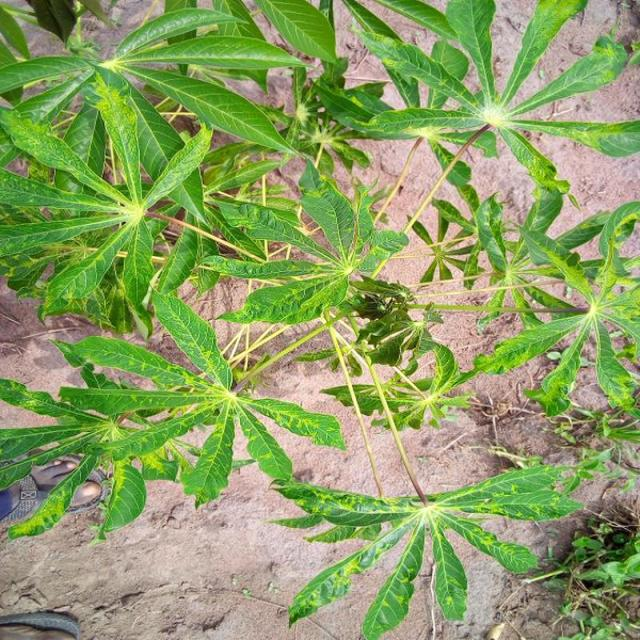Mosaico: (347, 17, 639, 203), (262, 460, 579, 615), (25, 73, 191, 309), (90, 327, 328, 479), (0, 368, 186, 541), (531, 211, 640, 411), (251, 211, 386, 313), (338, 339, 495, 415)
